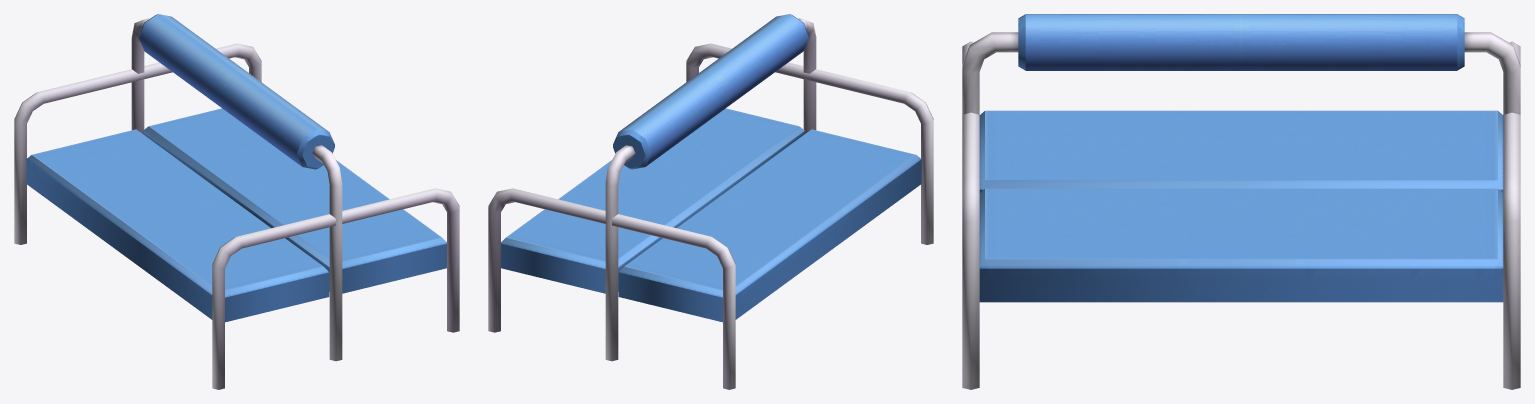
Rendered from my_shoppingmall_01_bench_02.glb.
3 renders of one model, left to right at view 1: azimuth 30°, elevation 25°; view 2: azimuth 150°, elevation 25°; view 3: azimuth 270°, elevation 25°, orthographic. The views are drawn at different scales.
Visible parts, largest first — view 1: my_shoppingmall_01_bench_02; view 2: my_shoppingmall_01_bench_02; view 3: my_shoppingmall_01_bench_02.
Boxes of the visible parts, x1,y1,x2,y2 form: my_shoppingmall_01_bench_02: (14, 14, 459, 389); my_shoppingmall_01_bench_02: (488, 14, 933, 389); my_shoppingmall_01_bench_02: (962, 14, 1520, 389).
Bounding box in the file's own units: 0.00783 × 0.00648 × 0.0112.
Materials: 1 (1 with a texture image).
